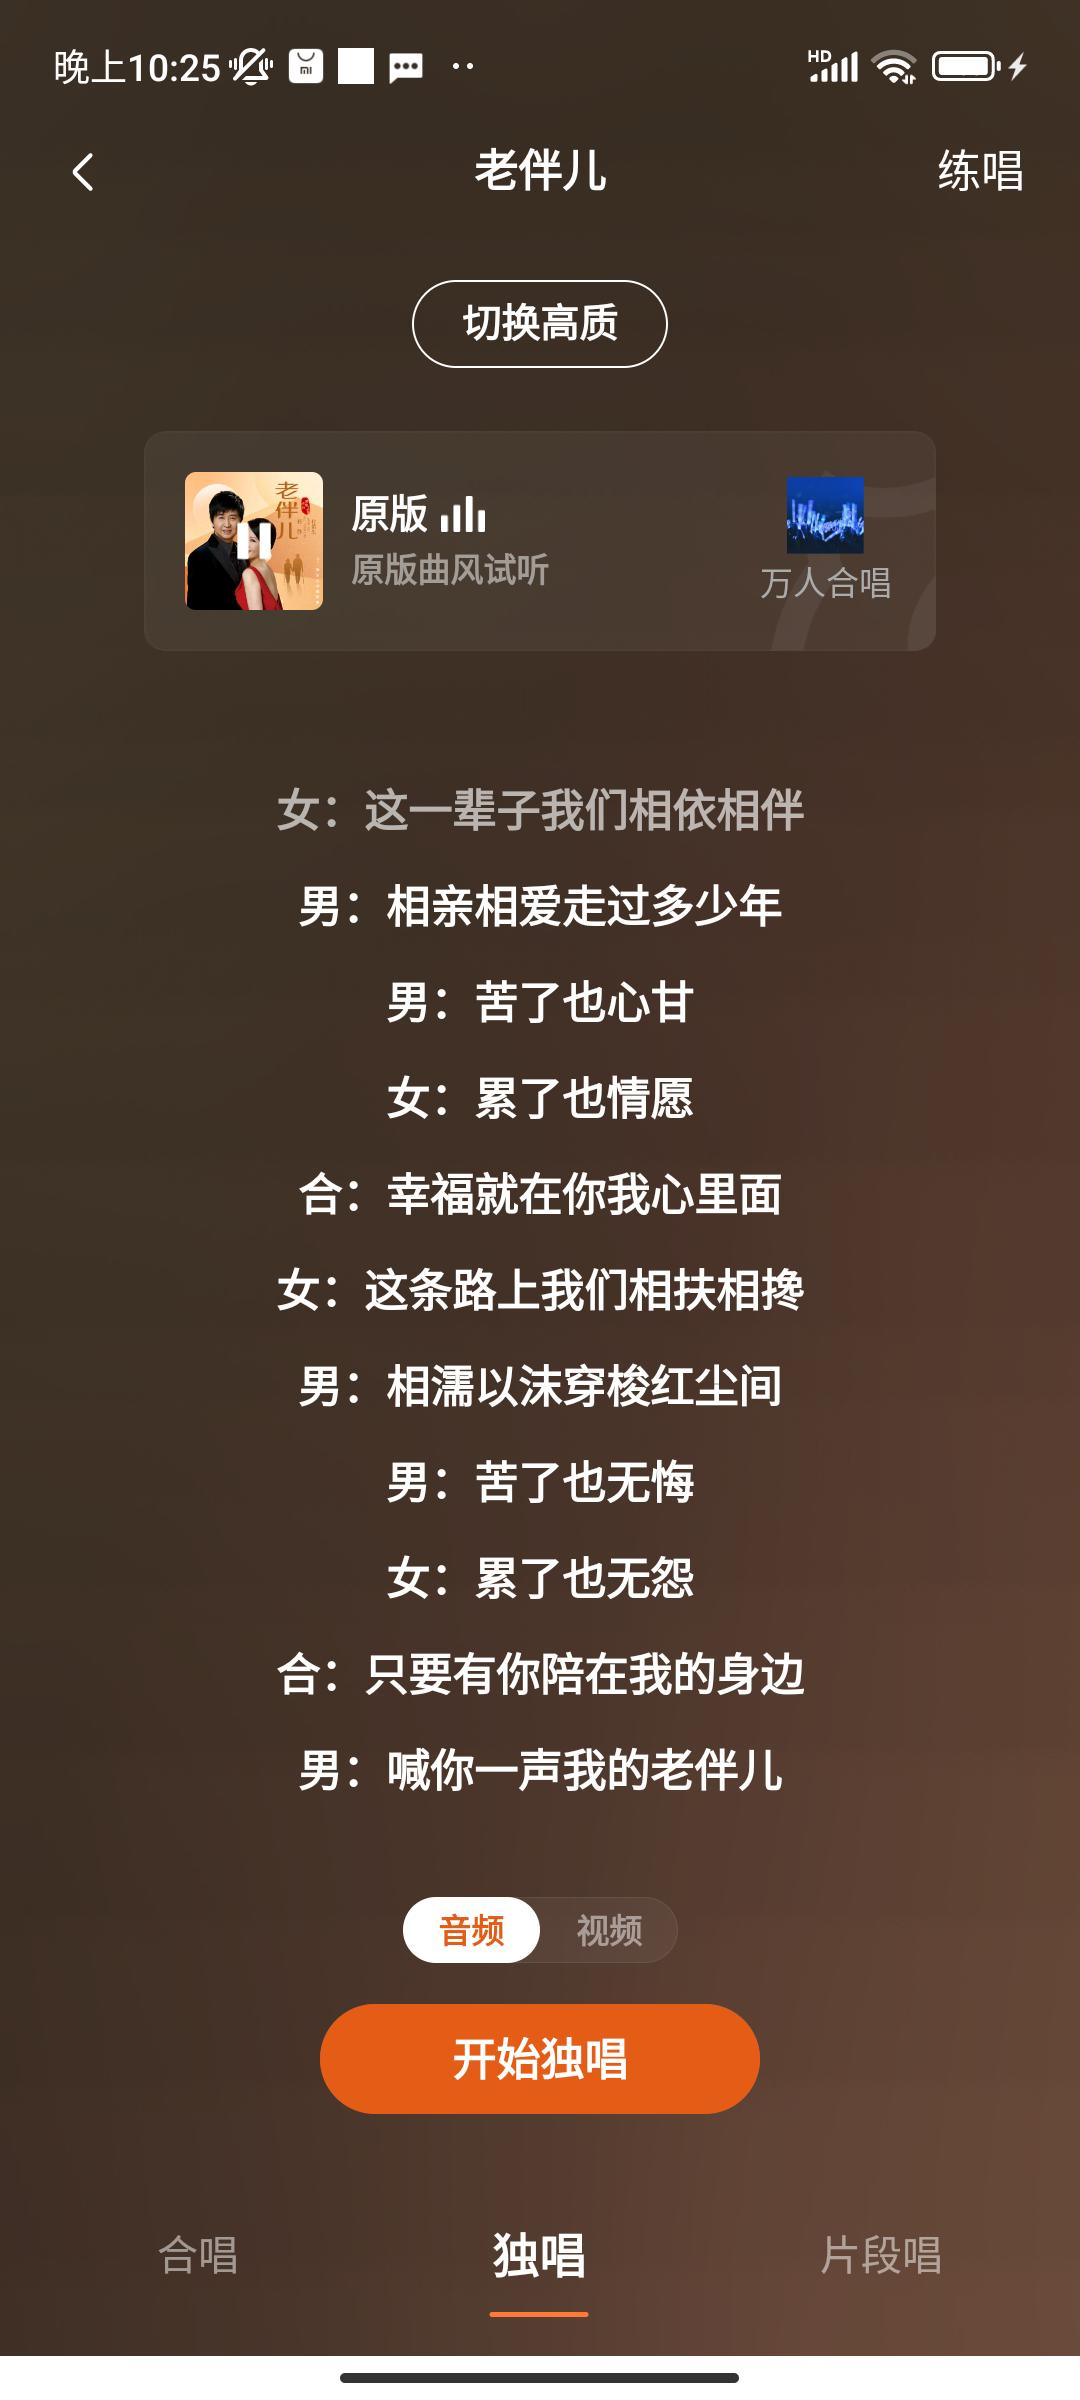ui_group: (148, 435, 933, 644), (283, 1873, 812, 2131), (395, 259, 688, 372), (110, 2206, 320, 2311)
